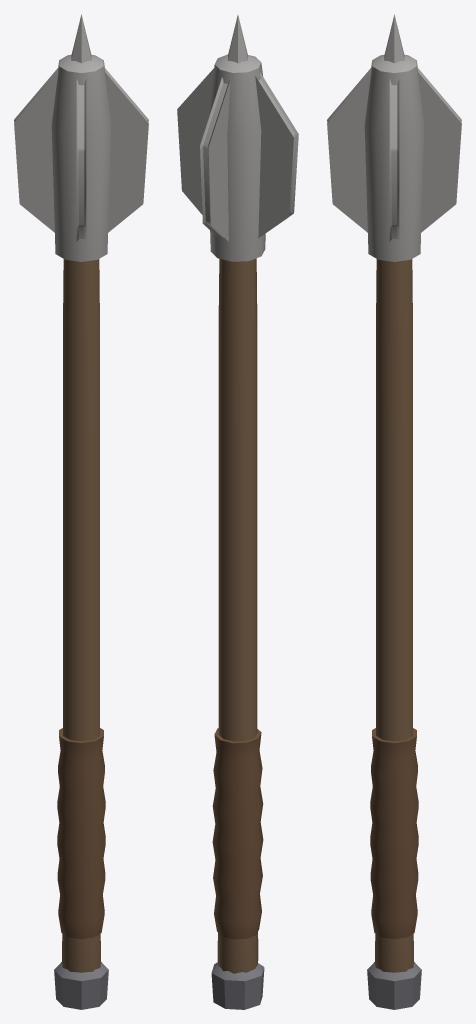
The model's file is smiths_warhammer.glb.
3 renders of one model, left to right at view 1: azimuth 90°, elevation 25°; view 2: azimuth 150°, elevation 25°; view 3: azimuth 270°, elevation 25°, orthographic.
Visible parts, largest first — view 1: smiths_warhammer; view 2: smiths_warhammer; view 3: smiths_warhammer.
Boxes of the visible parts, x1,y1,x2,y2 form: smiths_warhammer: [14, 14, 148, 1009]; smiths_warhammer: [177, 15, 298, 1009]; smiths_warhammer: [327, 14, 461, 1009].
Size of the model in its own units: 0.1241 by 1.01 by 0.1241.
